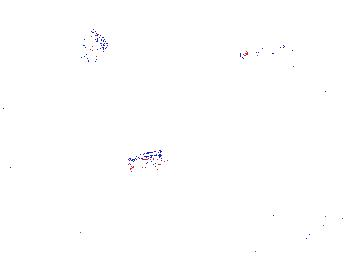X-ray fish: (77, 23, 107, 67)
glassfish: (120, 148, 166, 177)
red belly glassfish: (236, 44, 283, 63), (319, 82, 346, 102)
redtail glassfish: (256, 1, 309, 16)
